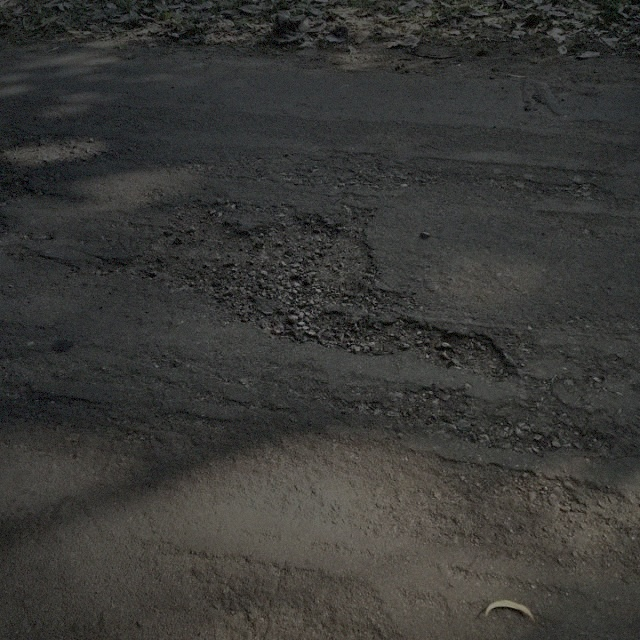pothole: (86, 196, 518, 385), (0, 172, 39, 209)
